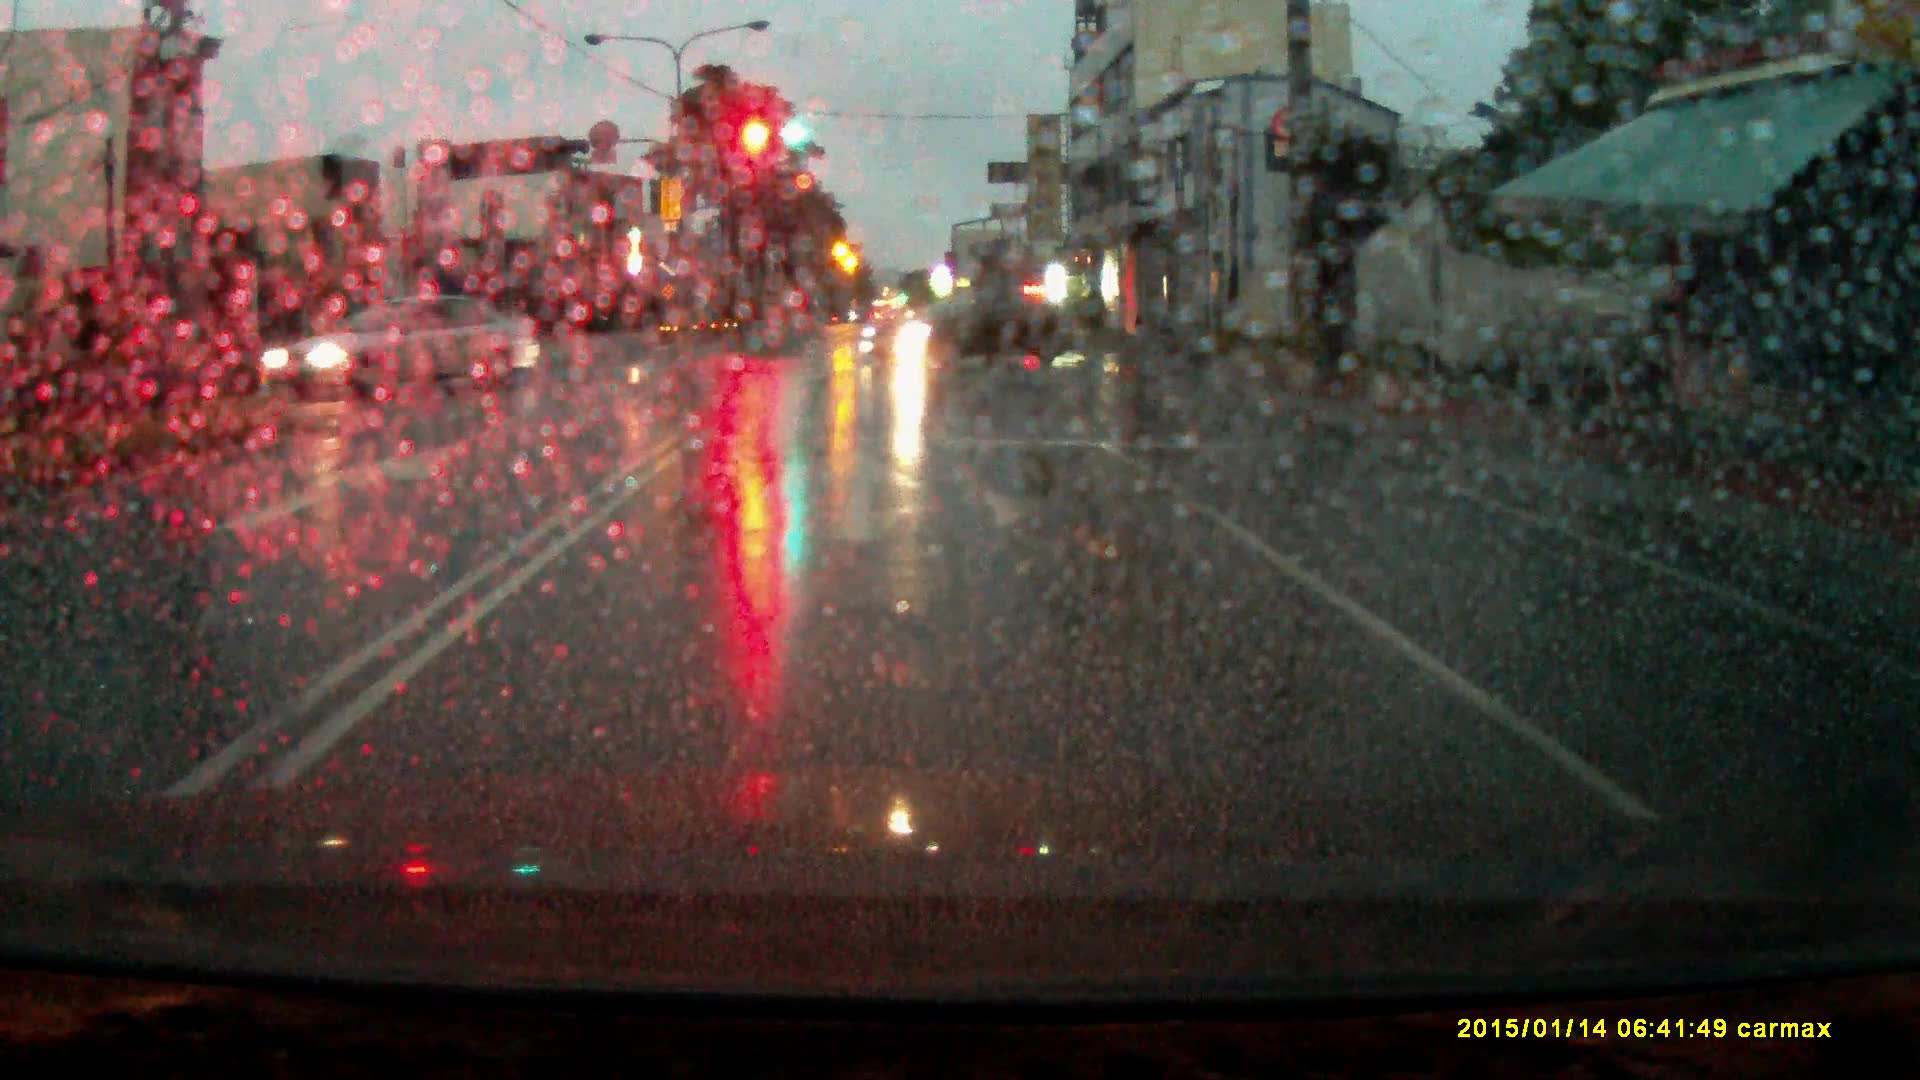vehicle: (257, 294, 546, 397), (862, 289, 1083, 371)
